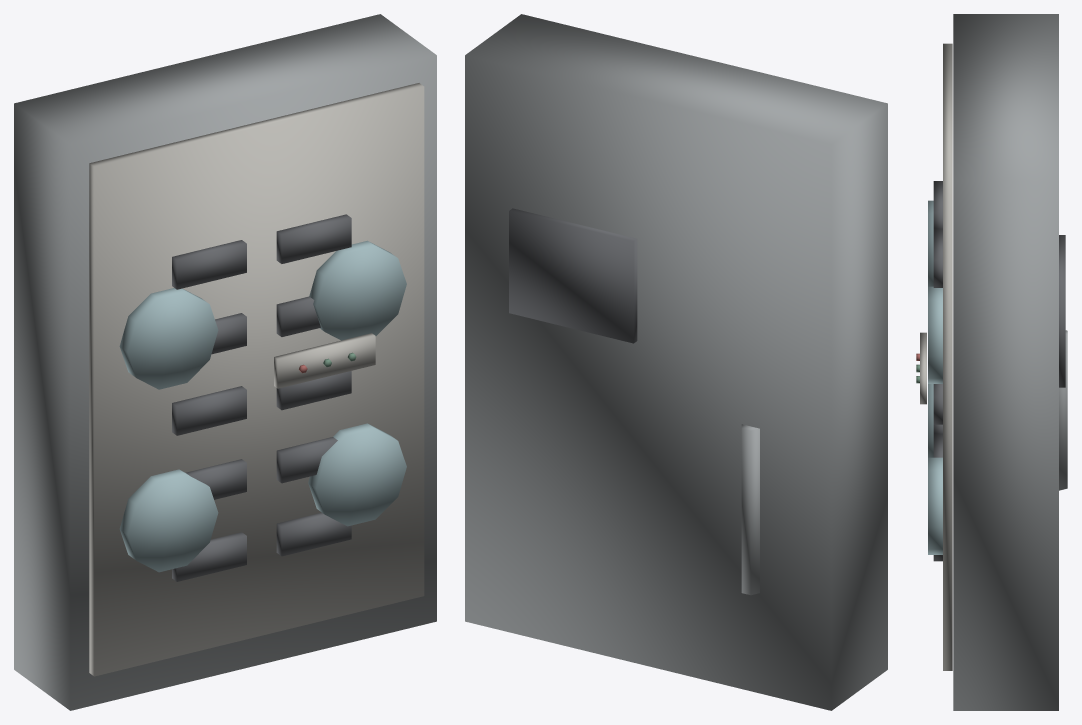
Rendered from meter_bank__service.glb.
The picture shows the model from 3 angles, left to right: view 1: azimuth 30°, elevation 25°; view 2: azimuth 150°, elevation 25°; view 3: azimuth 270°, elevation 25°; orthographic projection. The views are drawn at different scales.
Parts seen in each view (by area): view 1: world; view 2: world; view 3: world.
Boxes of the visible parts, x1,y1,x2,y2 form: world: (14, 14, 436, 710); world: (465, 14, 887, 710); world: (916, 14, 1067, 710).
Size of the model in its own units: 1.05 by 1.55 by 0.4012.
